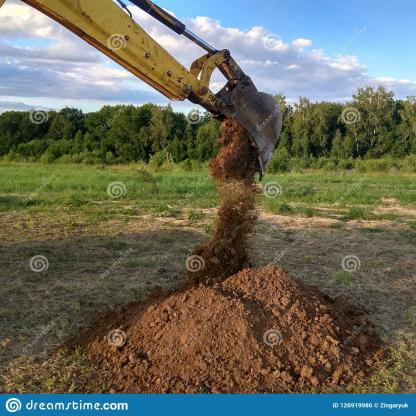excavator: (3, 0, 288, 196)
